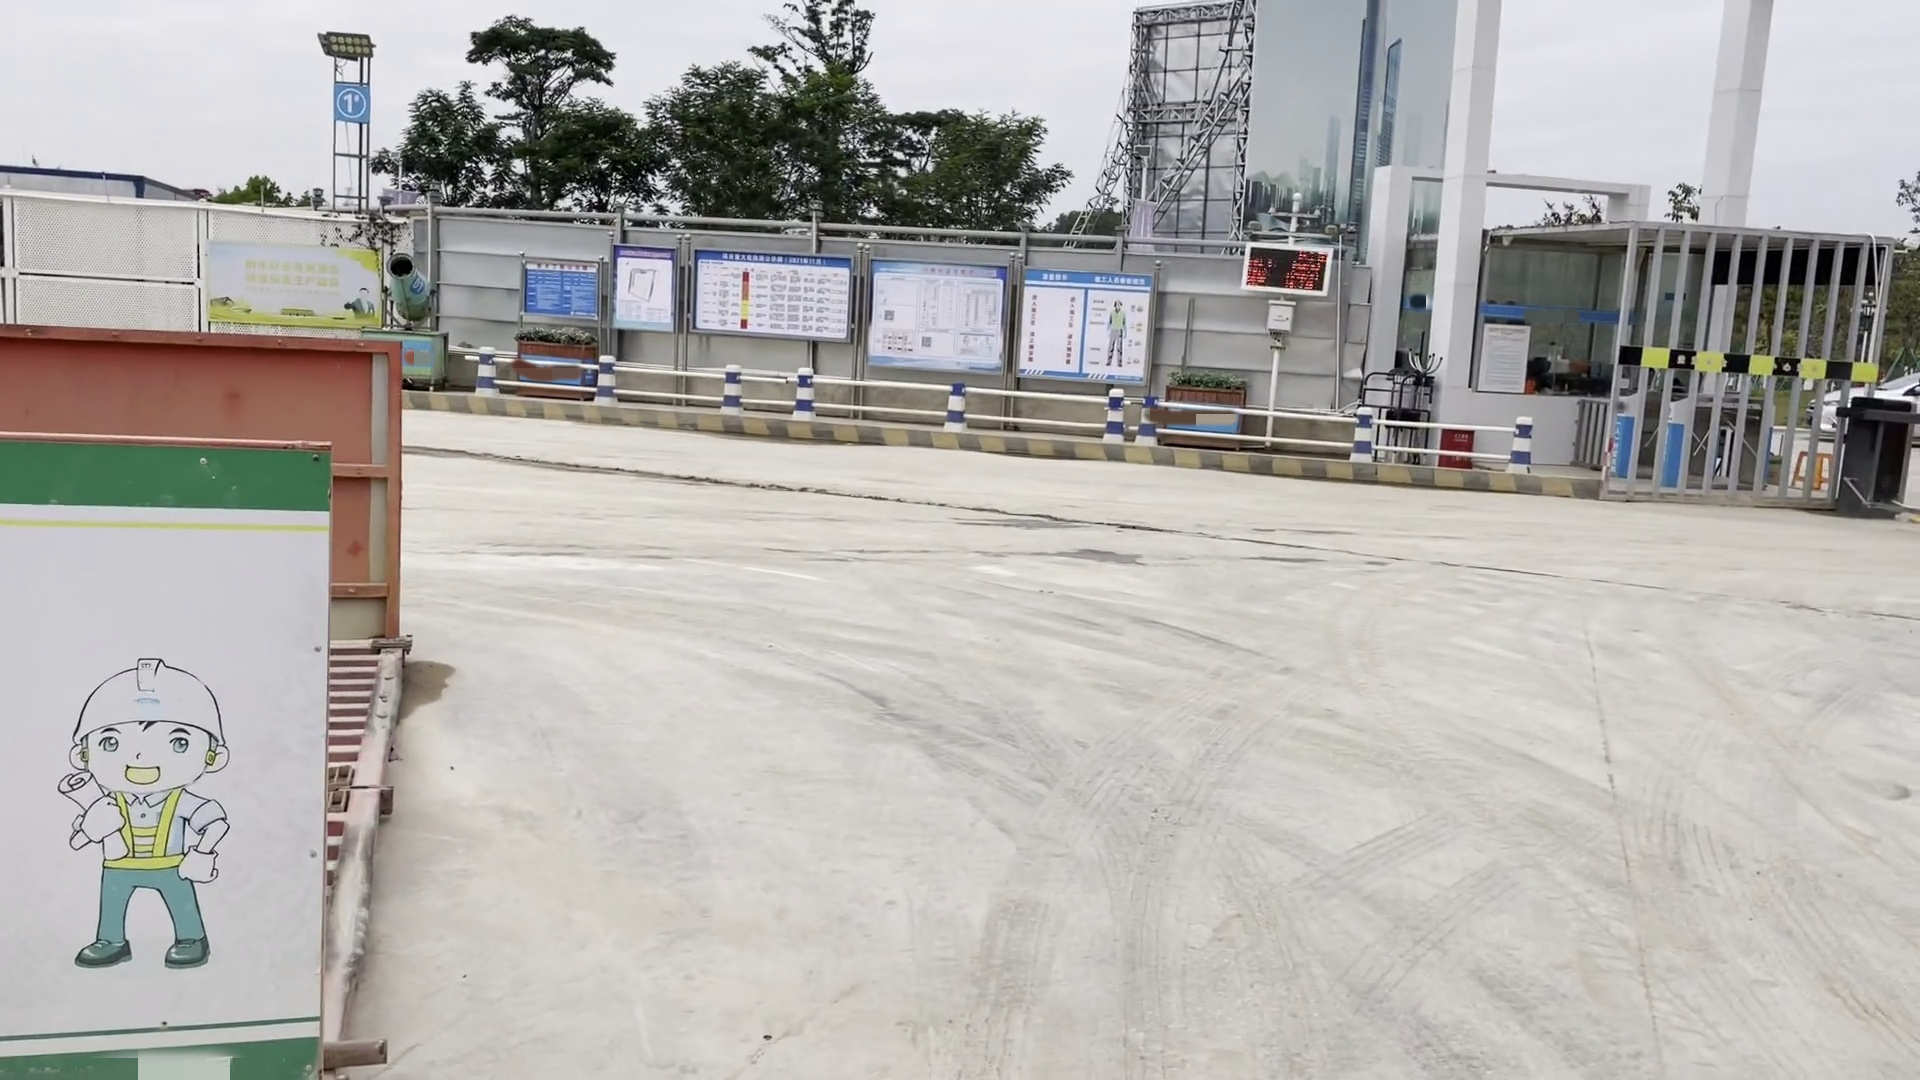slogan: (198, 240, 377, 334), (1023, 274, 1147, 384), (872, 264, 1000, 368), (692, 255, 847, 335), (520, 256, 593, 322), (616, 251, 671, 324)
